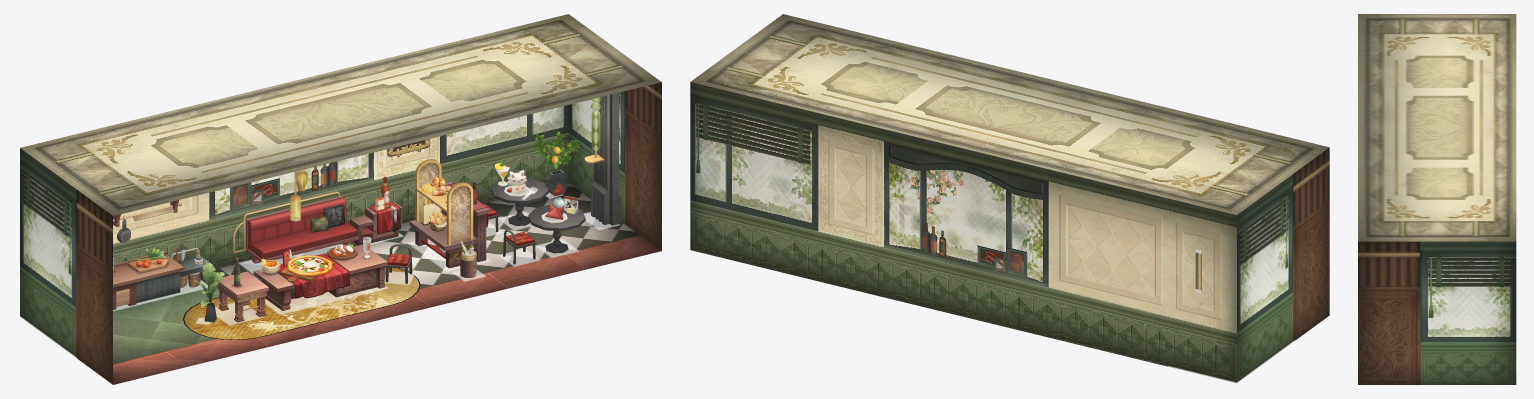
File: pizzeria.glb
3 views of the same model, side by side, from view 1: azimuth 30°, elevation 25°; view 2: azimuth 150°, elevation 25°; view 3: azimuth 270°, elevation 25° (orthographic). The views are drawn at different scales.
Visible parts, largest first — view 1: ROOM_room, ROOM_floor, furni_pizzeria_carpet_01, furni_pizzeria_sofa_01, furni_pizzeria_table_01, furni_pizzeria_sideboard_01, furni_pizzeria_worktop_01, furni_pizzeria_sconce_01, furni_pizzeria_roundtable_01, furni_pizzeria_plant_01, furni_pizzeria_caketable_01, ROOM_LDoor (+14 smaller); view 2: ROOM_room, ROOM_LDoor; view 3: ROOM_room, ROOM_RDoor.
Part boxes in pixels (x1,y1,x2,y2): ROOM_room: (20,14,661,384); ROOM_floor: (113,183,661,384); furni_pizzeria_carpet_01: (183,267,420,339); furni_pizzeria_sofa_01: (233,191,358,263); furni_pizzeria_table_01: (253,244,387,310); furni_pizzeria_sideboard_01: (409,159,489,268); furni_pizzeria_worktop_01: (113,247,212,309); furni_pizzeria_sconce_01: (591,92,621,225); furni_pizzeria_roundtable_01: (503,197,585,264); furni_pizzeria_plant_01: (204,257,268,322); furni_pizzeria_caketable_01: (484,165,548,231); ROOM_LDoor: (80,284,99,374); ROOM_room: (690,14,1329,382); ROOM_LDoor: (1297,249,1315,338); ROOM_room: (1358,14,1516,384); ROOM_RDoor: (1381,319,1413,384).
Size of the model in its own units: 7.53 by 2.2 by 2.25.
6 materials, 6 textured.
